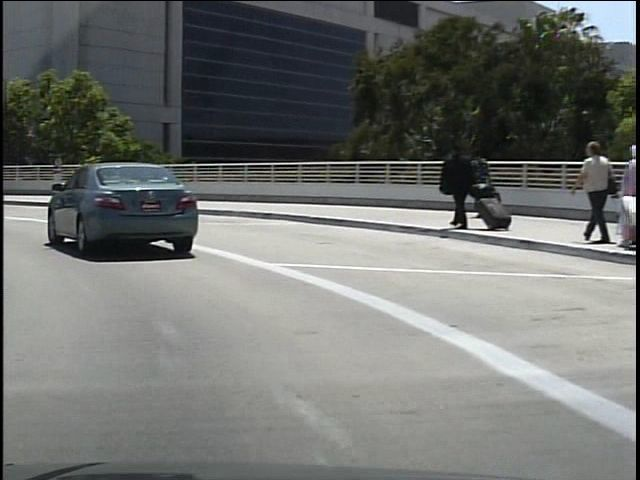person: (567, 136, 613, 248), (436, 139, 477, 228), (461, 143, 496, 219)
